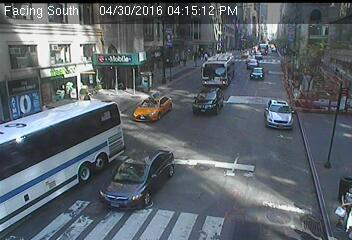neg: (160, 29, 176, 51)
pos: (333, 186, 351, 229), (83, 90, 90, 99)
